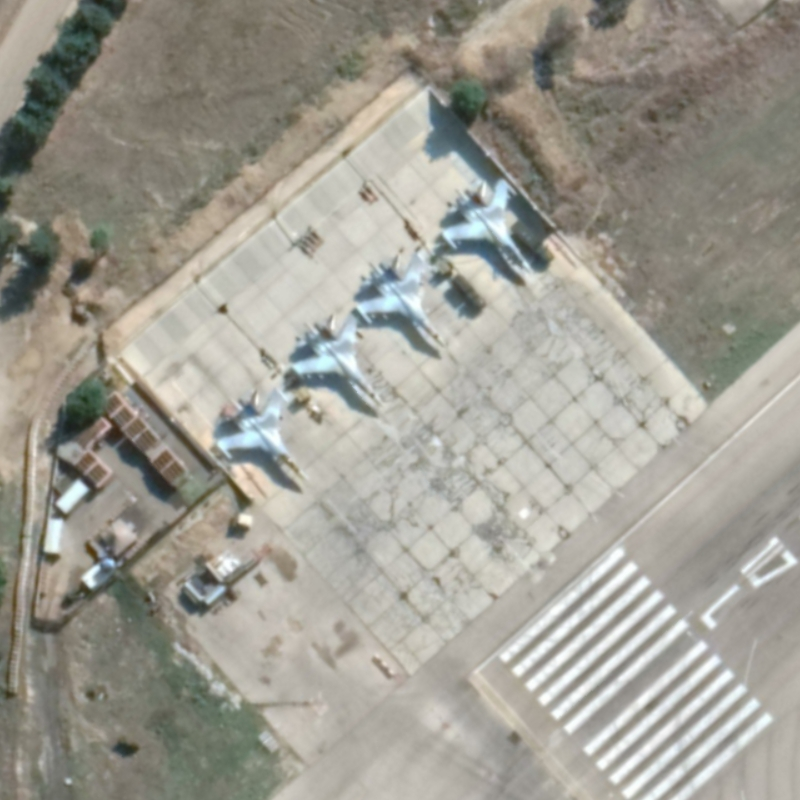A1: (438, 174, 537, 277), (353, 248, 449, 349), (214, 384, 311, 483), (288, 310, 385, 407)
